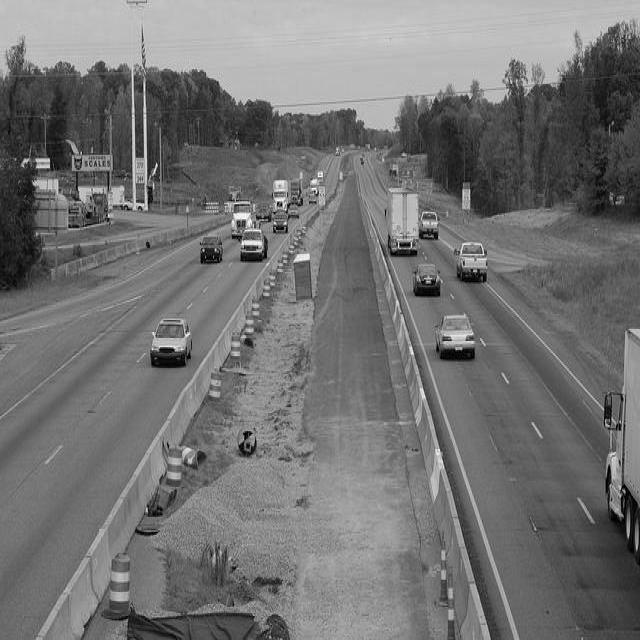vehicle: (603, 326, 639, 562), (385, 179, 421, 257), (150, 317, 192, 367), (435, 314, 476, 360), (454, 240, 488, 284), (230, 199, 262, 243), (238, 231, 270, 263), (413, 264, 441, 296), (200, 235, 224, 267), (272, 180, 289, 216), (420, 214, 438, 239), (290, 179, 304, 205), (273, 211, 288, 234), (288, 204, 300, 220), (310, 179, 319, 197), (308, 194, 316, 205)
